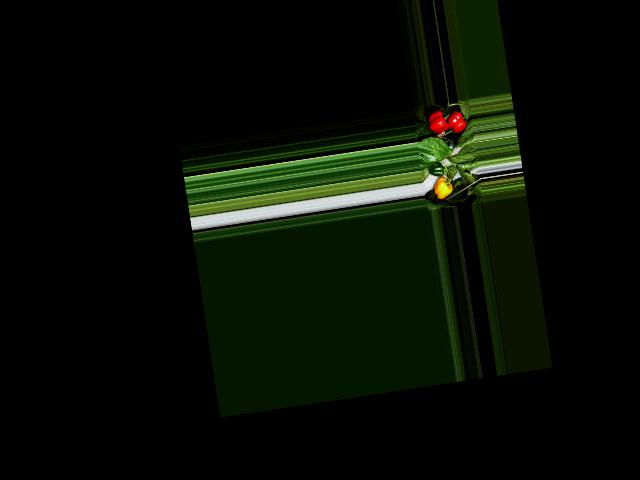bell_pepper: (430, 174, 455, 202)
